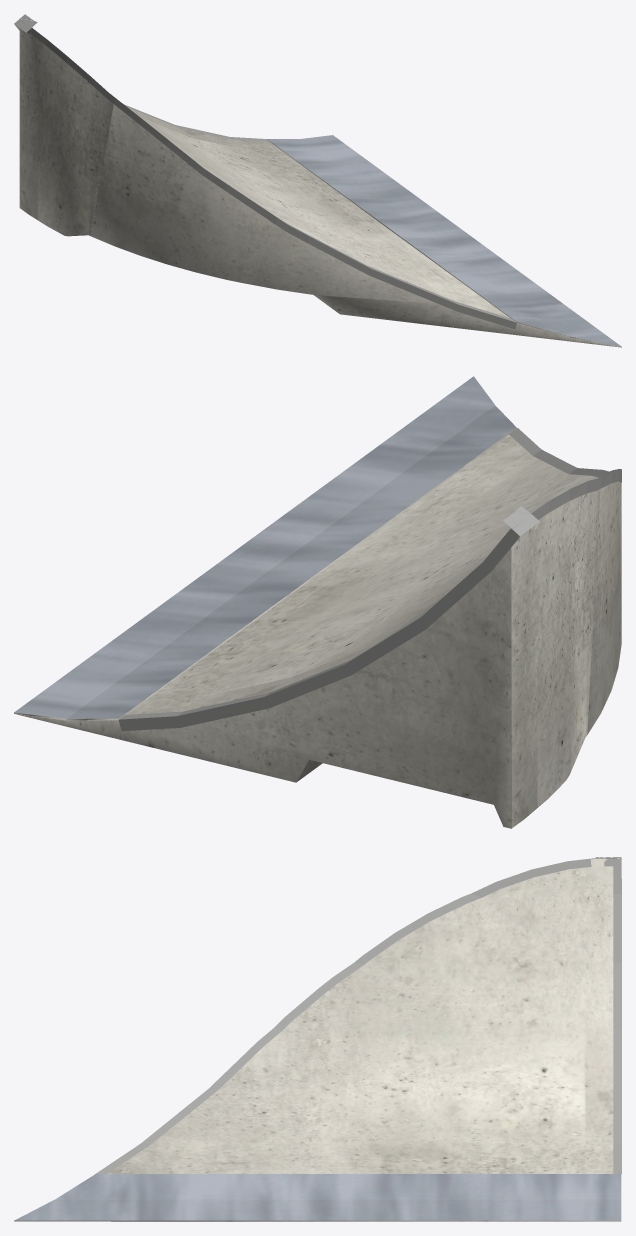
Rendered from cross-ramp-98r.gltf.
The picture shows the model from 3 angles, top to bottom: view 1: azimuth 30°, elevation 25°; view 2: azimuth 150°, elevation 25°; view 3: azimuth 270°, elevation 25°; orthographic projection. The views are drawn at different scales.
Parts seen in each view (by area): view 1: SK1228_Cross-Ramp-_98R.001; view 2: SK1228_Cross-Ramp-_98R.001; view 3: SK1228_Cross-Ramp-_98R.001.
Part boxes in pixels (x1=…): SK1228_Cross-Ramp-_98R.001: x1=14, y1=14, x2=621, y2=347; SK1228_Cross-Ramp-_98R.001: x1=14, y1=376, x2=621, y2=828; SK1228_Cross-Ramp-_98R.001: x1=14, y1=857, x2=621, y2=1221.
Bounding box in the file's own units: 1.59 × 0.94 × 2.5.
